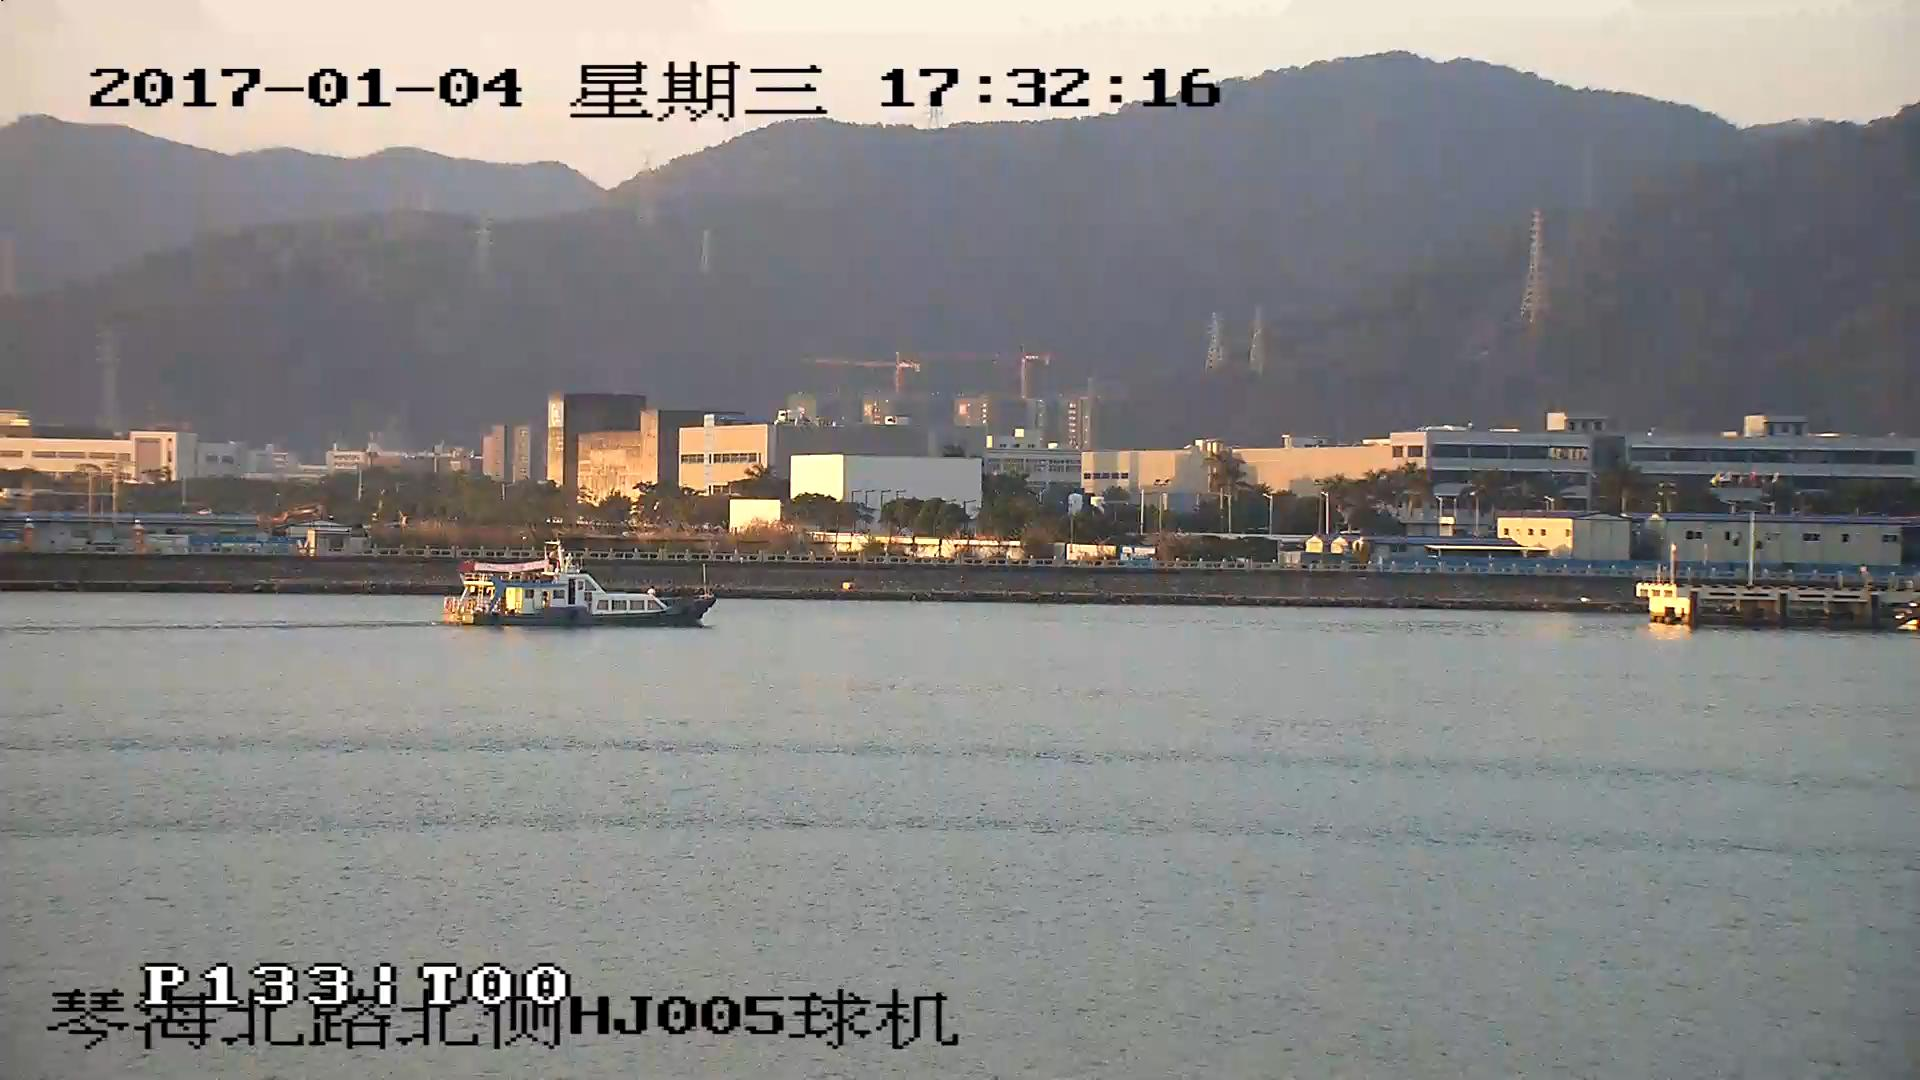fishing boat: (439, 542, 715, 626)
